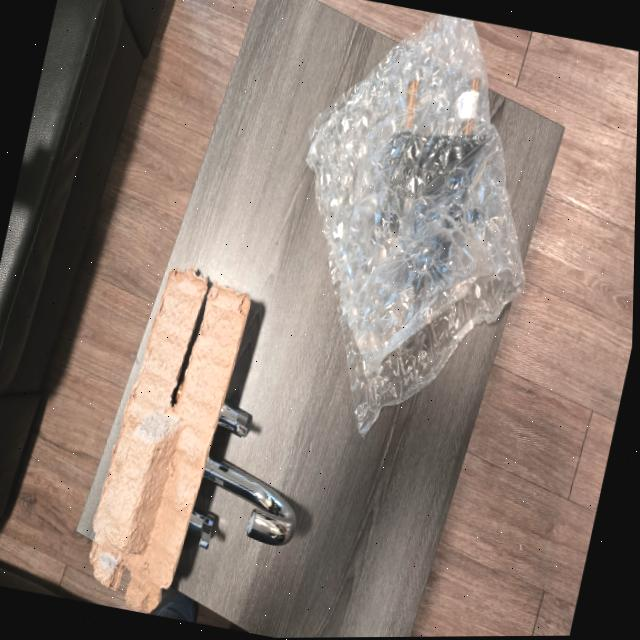10o: (202, 454, 295, 546), (187, 485, 224, 549), (215, 402, 251, 438)
9c: (306, 13, 524, 436)
